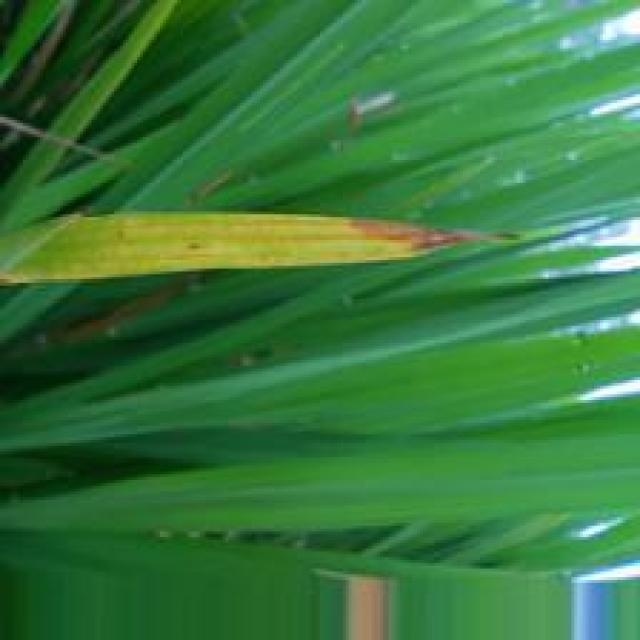Leaf_Scald: (349, 218, 465, 252)
